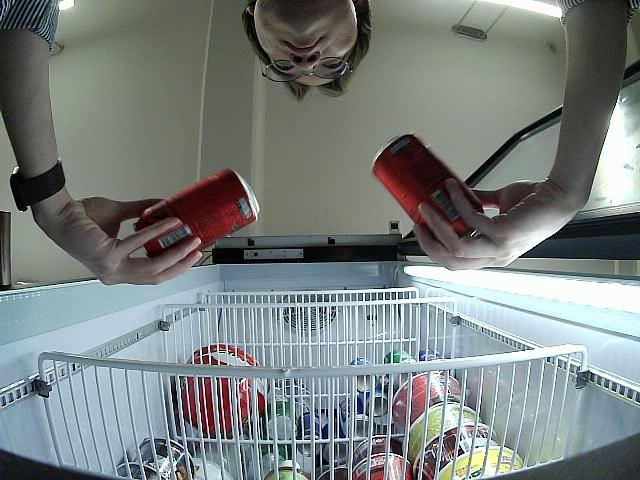00_hand: (415, 176, 562, 271), (57, 195, 204, 287)
11_cocaColaZero: (370, 134, 483, 240), (135, 169, 258, 256)
